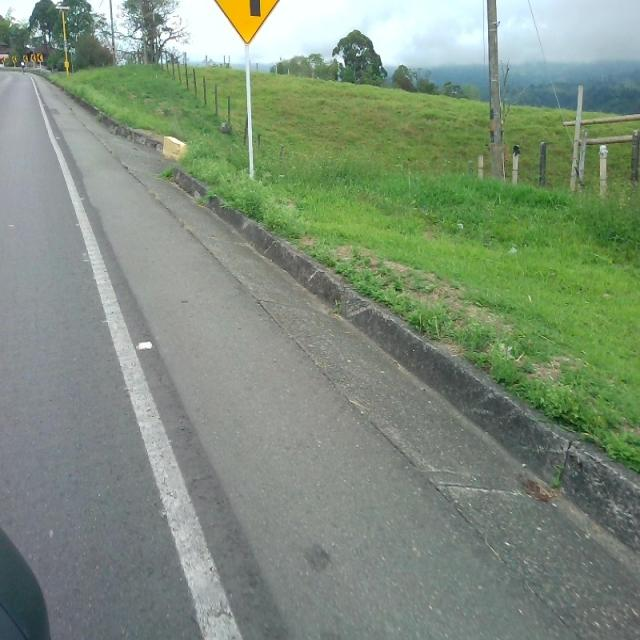DITCH: (14, 69, 638, 638), (92, 157, 638, 638)
